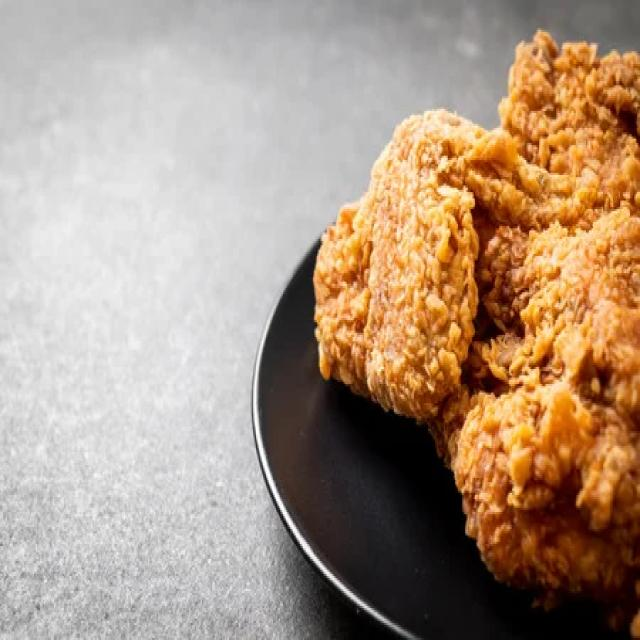Frango: (313, 34, 640, 640)
